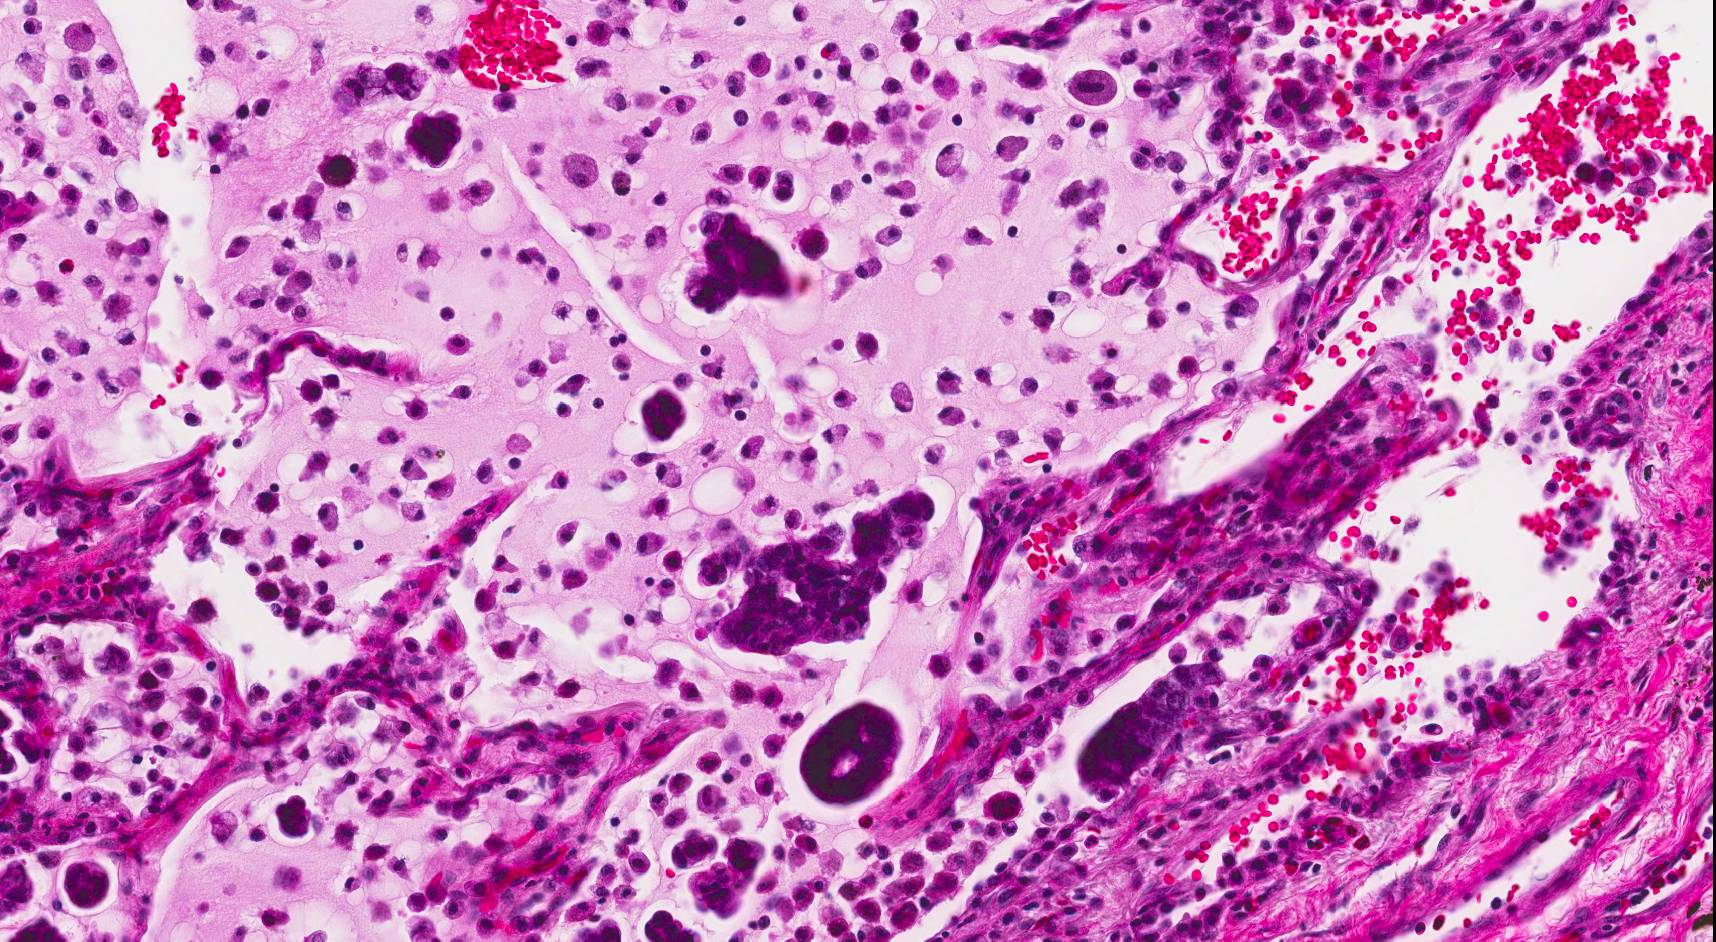stas: (693, 490, 934, 657), (1075, 655, 1231, 804), (798, 699, 903, 813), (682, 211, 793, 316), (636, 385, 693, 441)
